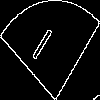I: (25, 25, 54, 71)
